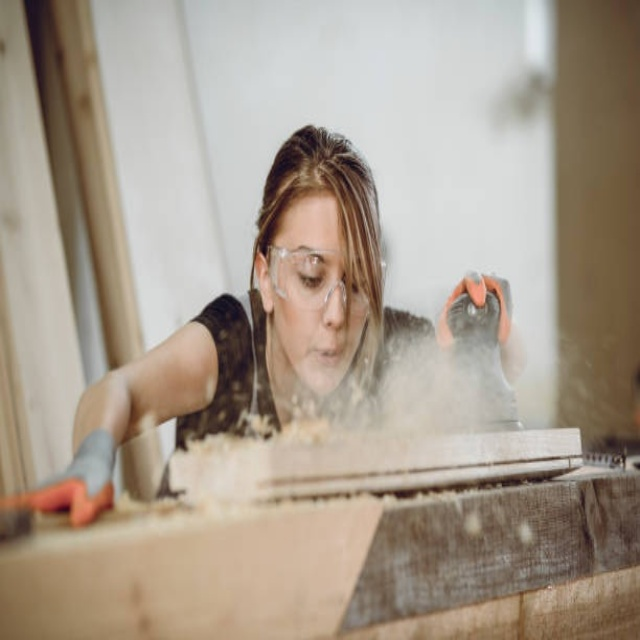Gafas: (266, 244, 383, 315)
Guantes: (442, 274, 521, 427), (1, 427, 119, 529)
Sin_mascara: (296, 333, 352, 389)
